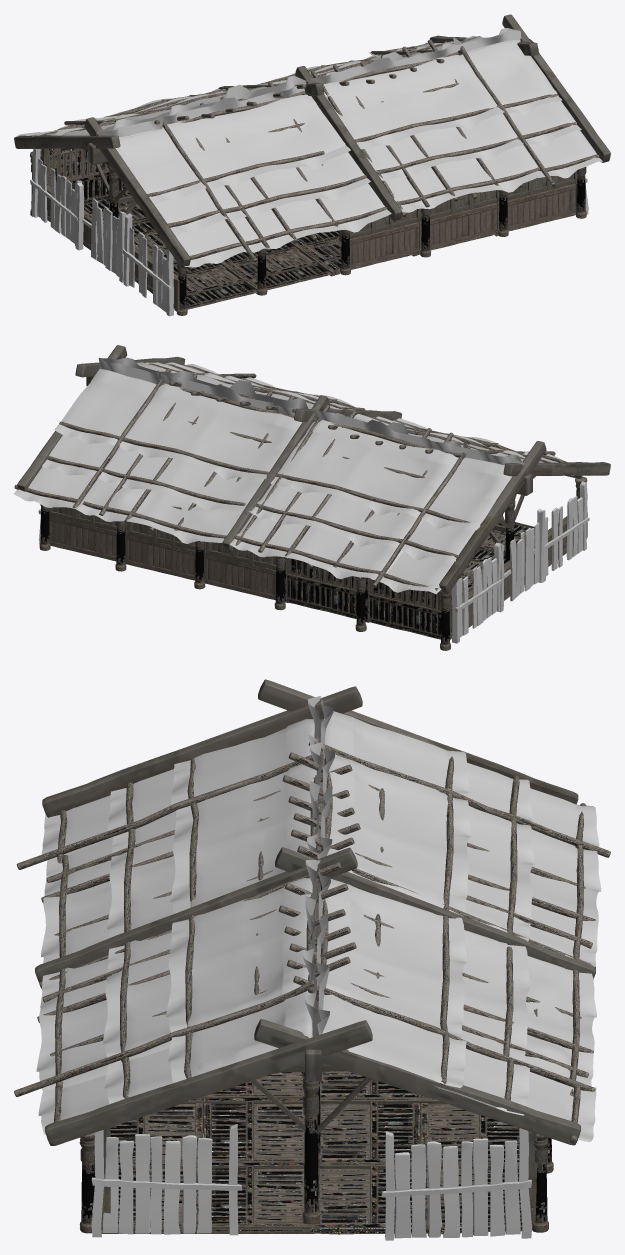
Rendered from build_blacksmith_01_low.glb.
3 renders of one model, top to bottom at view 1: azimuth 30°, elevation 25°; view 2: azimuth 150°, elevation 25°; view 3: azimuth 270°, elevation 25°, orthographic. The views are drawn at different scales.
Visible parts, largest first — view 1: build_blacksmith_01; view 2: build_blacksmith_01; view 3: build_blacksmith_01.
Part boxes in pixels (box(x1,y1,x2,y2)): build_blacksmith_01: box(14, 14, 610, 316); build_blacksmith_01: box(14, 345, 610, 650); build_blacksmith_01: box(14, 679, 610, 1240).
Size of the model in its own units: 24.93 by 7.89 by 18.19.
Materials: 3 (2 with a texture image).
